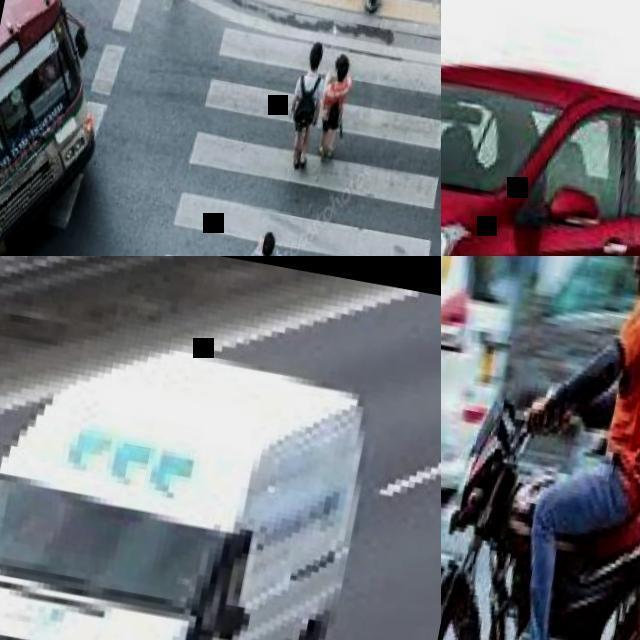car: (1, 350, 368, 639), (434, 0, 638, 247), (0, 0, 96, 251)
